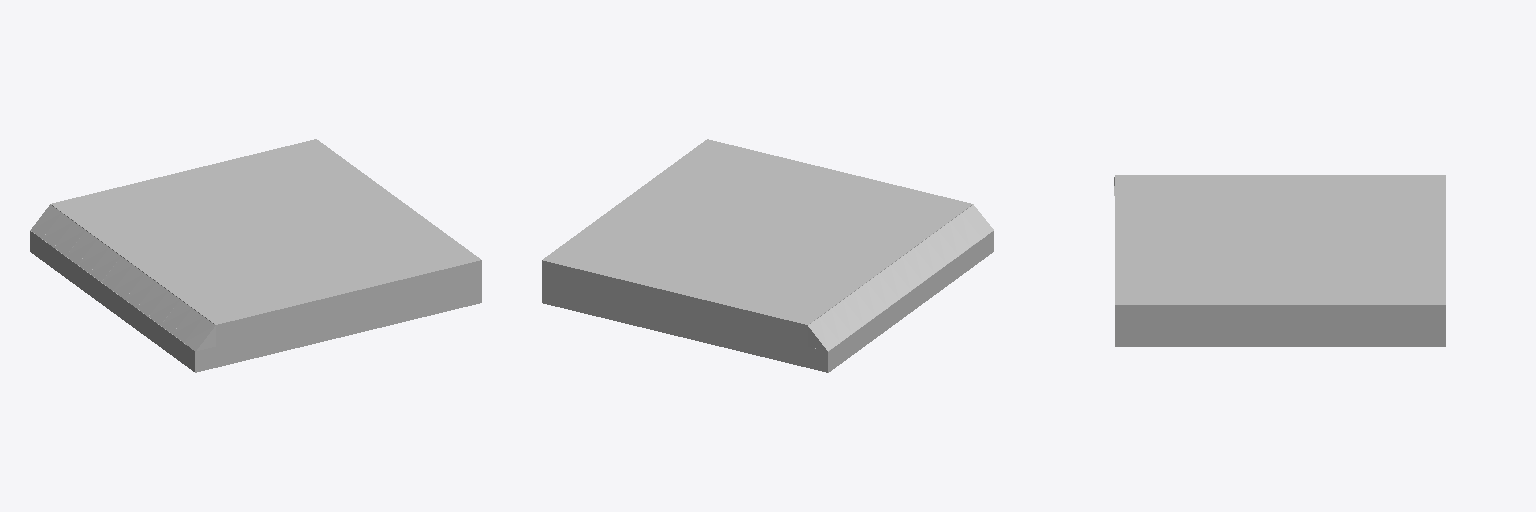
File: ptotipoaraia.obj
3 renders of one model, left to right at view 1: azimuth 30°, elevation 25°; view 2: azimuth 150°, elevation 25°; view 3: azimuth 270°, elevation 25°, orthographic.
Parts seen in each view (by area): view 1: Cube; view 2: Cube; view 3: Cube.
Boxes of the visible parts, x1=… form: Cube: x1=30, y1=139, x2=481, y2=372; Cube: x1=542, y1=139, x2=993, y2=372; Cube: x1=1114, y1=175, x2=1445, y2=346.
Size of the model in its own units: 0.8754 by 0.1251 by 0.8773.